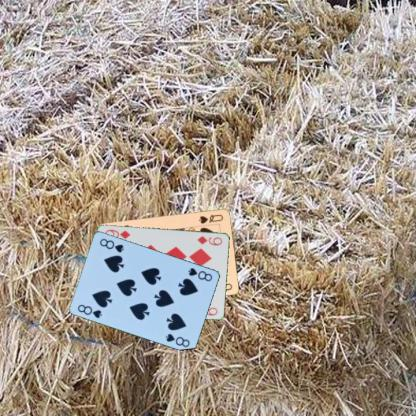8s: (75, 301, 104, 320), (186, 265, 214, 283)
9d: (195, 233, 224, 247)
Qs: (197, 211, 224, 225)
